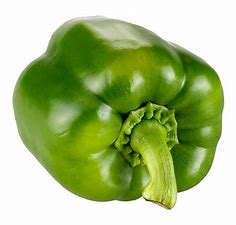fruit_pepper: (9, 14, 226, 212)
